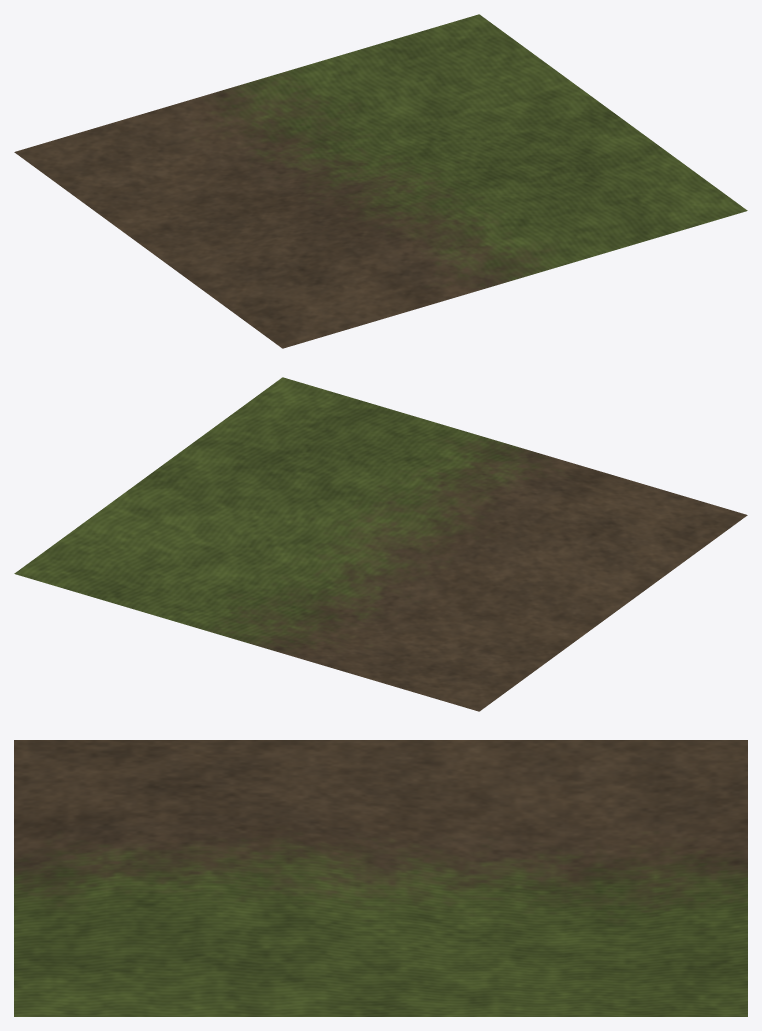
Rendered from soil_grass_slope_lod1.glb.
3 views of the same model, one above another, from view 1: azimuth 30°, elevation 25°; view 2: azimuth 150°, elevation 25°; view 3: azimuth 270°, elevation 25° (orthographic). The views are drawn at different scales.
Visible parts, largest first — view 1: soil_grass_slope_lod1; view 2: soil_grass_slope_lod1; view 3: soil_grass_slope_lod1.
Part boxes in pixels (<box>): soil_grass_slope_lod1: <box>14,14,747,348</box>; soil_grass_slope_lod1: <box>14,377,747,711</box>; soil_grass_slope_lod1: <box>14,740,747,1016</box>.
Bounding box in the file's own units: 2 × 0.1 × 2.
Materials: 1 (1 with a texture image).
